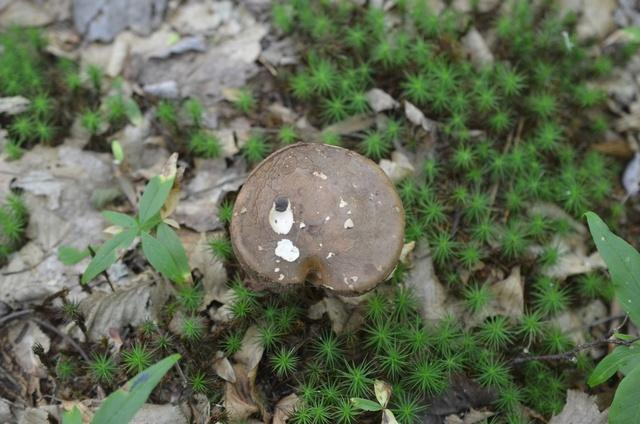Non-edible Mushroom: (228, 140, 406, 334)
